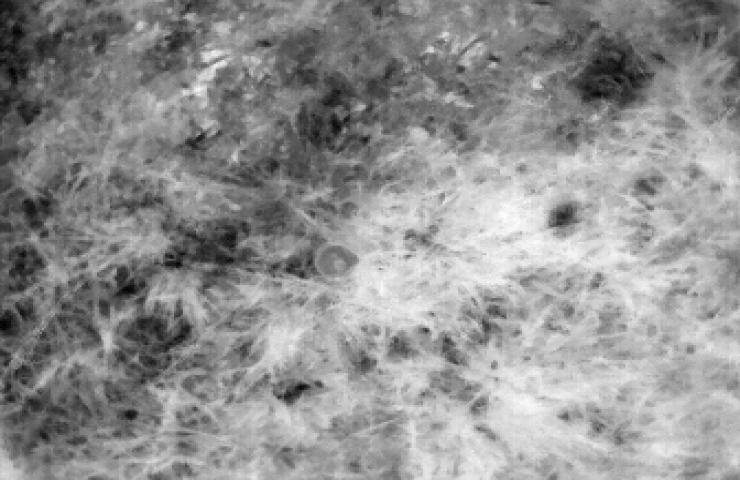landmines: (313, 239, 364, 285)
